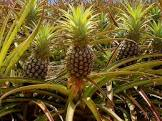Pineapple: (60, 5, 98, 81), (23, 24, 54, 83), (115, 5, 140, 68)
